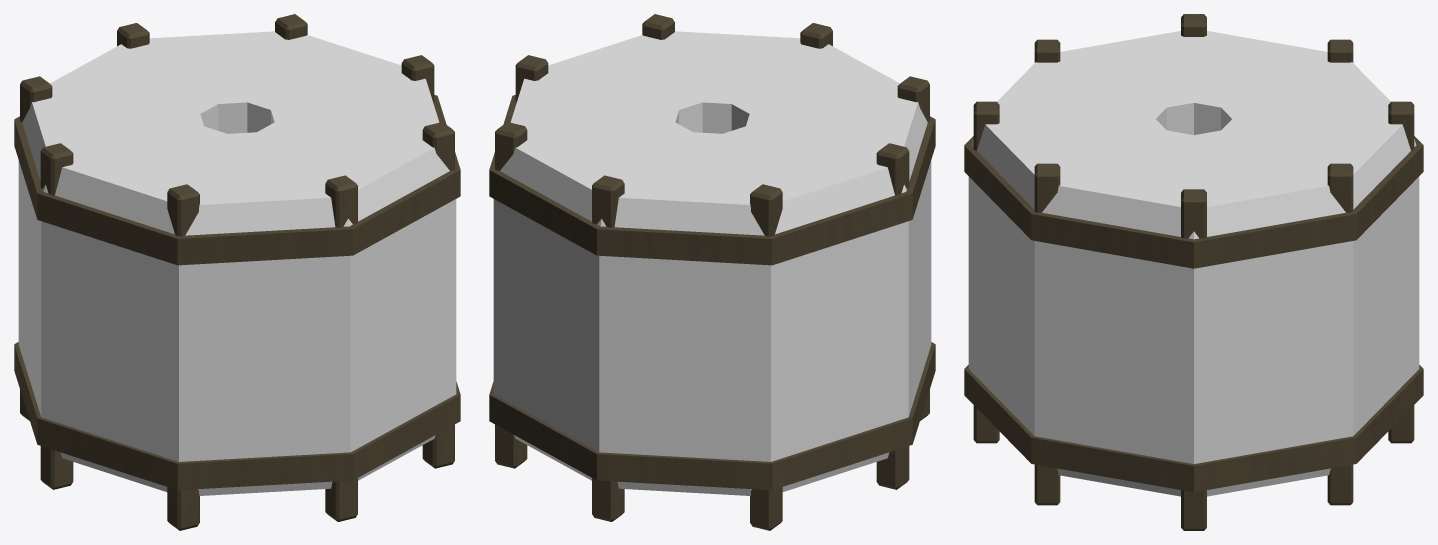
File: WarrensC_WVC023_MillstoneDrum_Mars_SM.fbx
3 views of the same model, side by side, from view 1: azimuth 30°, elevation 25°; view 2: azimuth 150°, elevation 25°; view 3: azimuth 270°, elevation 25° (orthographic).
Visible parts, largest first — view 1: WarrensC_WVC023_MillstoneDrum_Mars_SM.001; view 2: WarrensC_WVC023_MillstoneDrum_Mars_SM.001; view 3: WarrensC_WVC023_MillstoneDrum_Mars_SM.001.
Boxes of the visible parts, x1,y1,x2,y2 form: WarrensC_WVC023_MillstoneDrum_Mars_SM.001: (14, 14, 460, 530); WarrensC_WVC023_MillstoneDrum_Mars_SM.001: (489, 14, 935, 530); WarrensC_WVC023_MillstoneDrum_Mars_SM.001: (964, 14, 1423, 530).
Size of the model in its own units: 250 by 250 by 200.
